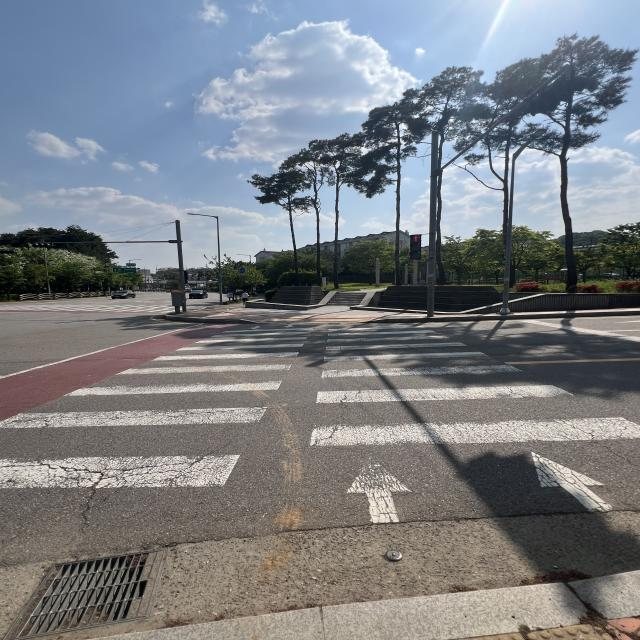crosswalk: (1, 304, 640, 539)
red-light: (411, 236, 426, 269)
